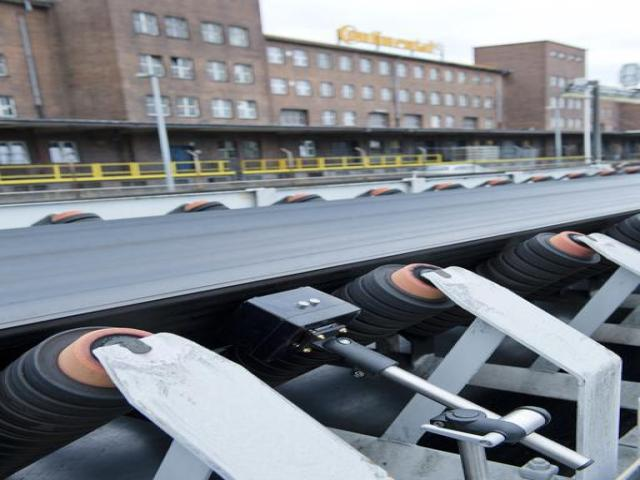conveyor: (1, 167, 640, 335)
